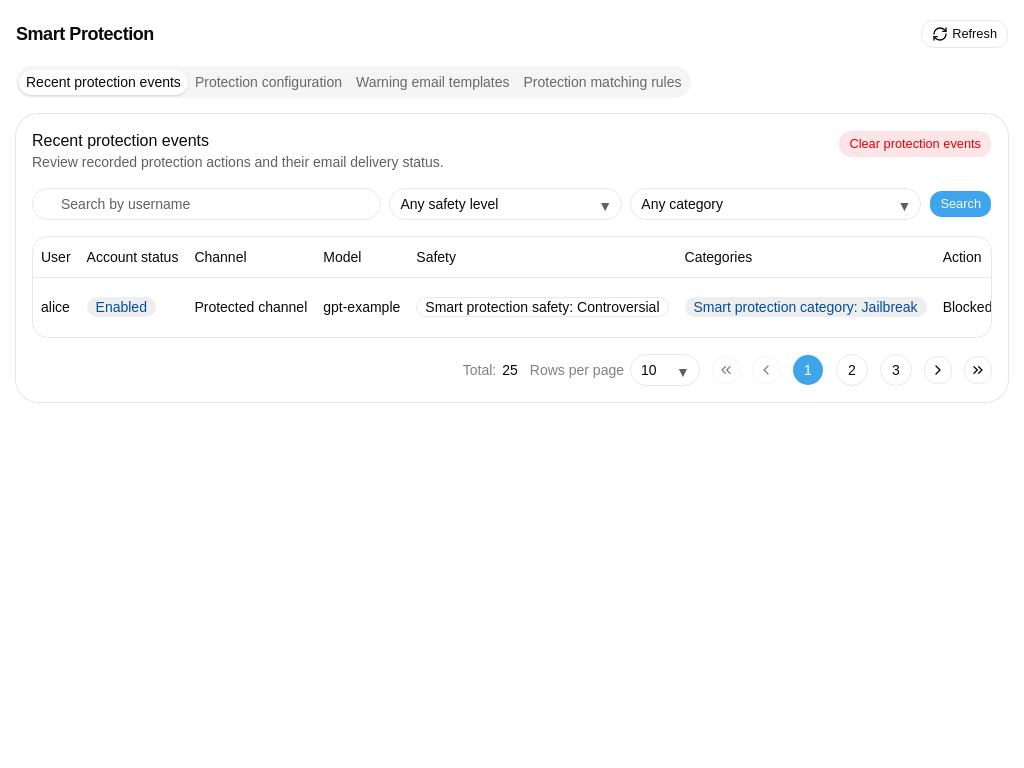
Smart Protection page › clears protection events after confirmation
The image size is (1024, 768).
Click the button "Clear protection events" at (915,144), box [838,130,992,158]
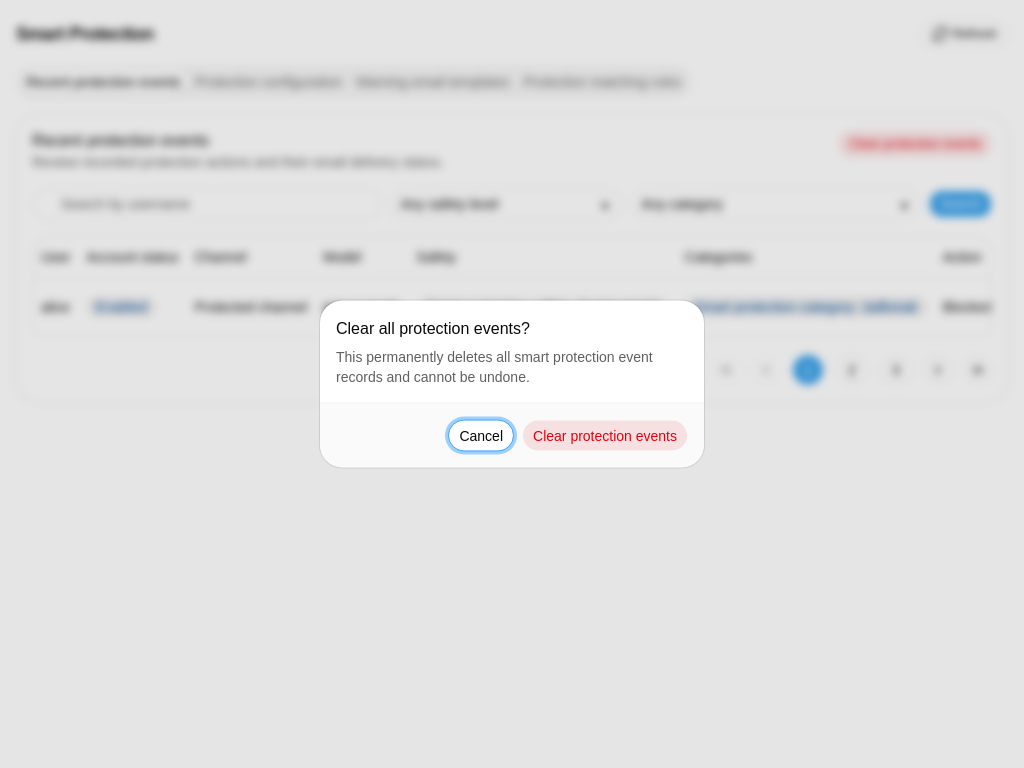
Expected: the dialog is shown, [320,300,704,468]
Expected: the dialog shows "Clear all protection events?", [336,320,530,336]
Click the button "Clear protection events" at (605,436), box [522,420,688,452]
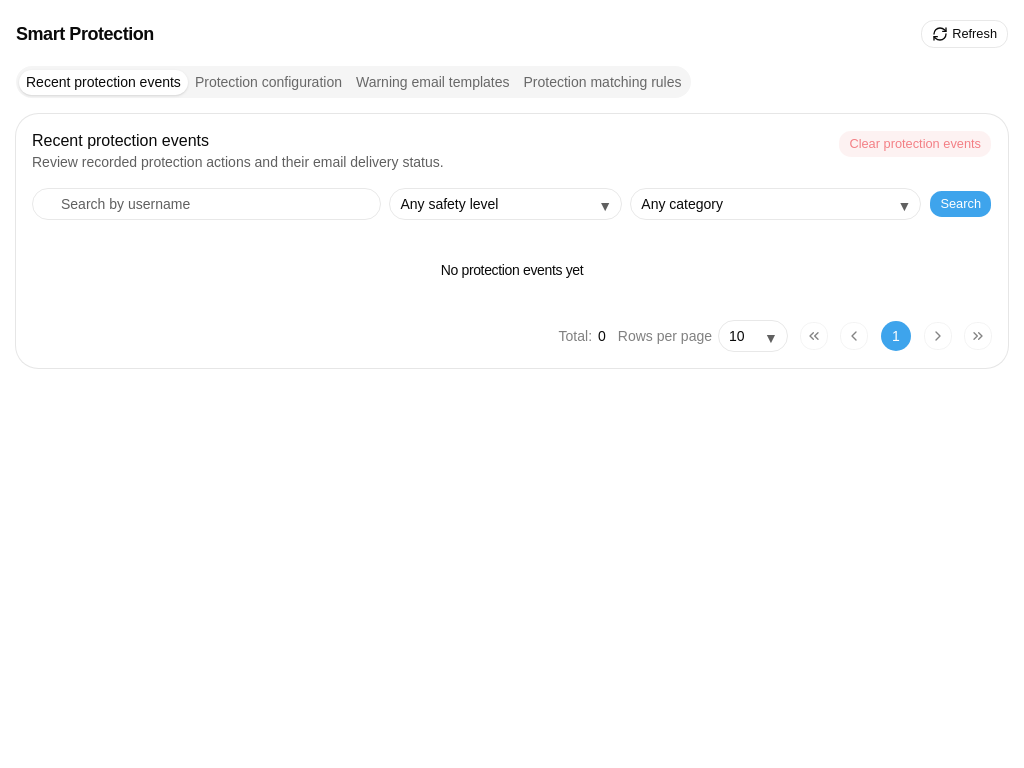
Expected: the dialog is gone
Expected: the text "No protection events yet" is shown, [441,260,583,280]
